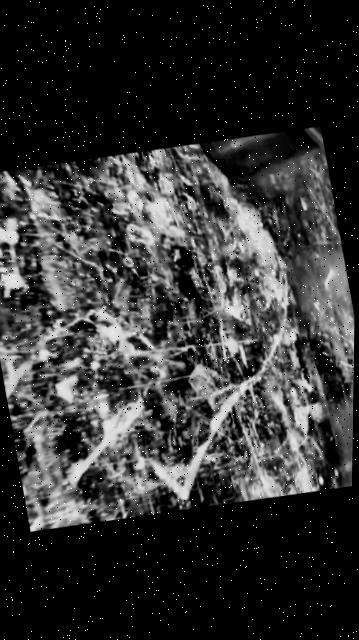pot: (194, 120, 327, 190)
